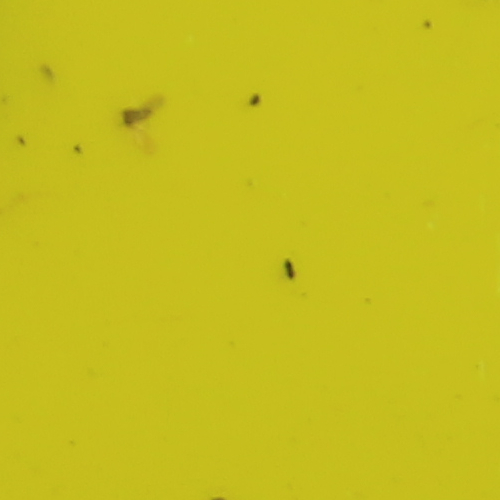Platyobria: (120, 105, 153, 126)
